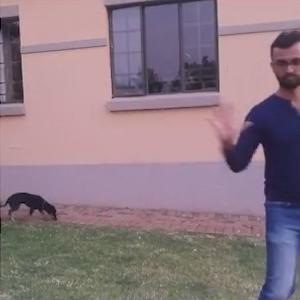follow_hand: (202, 99, 256, 146)
